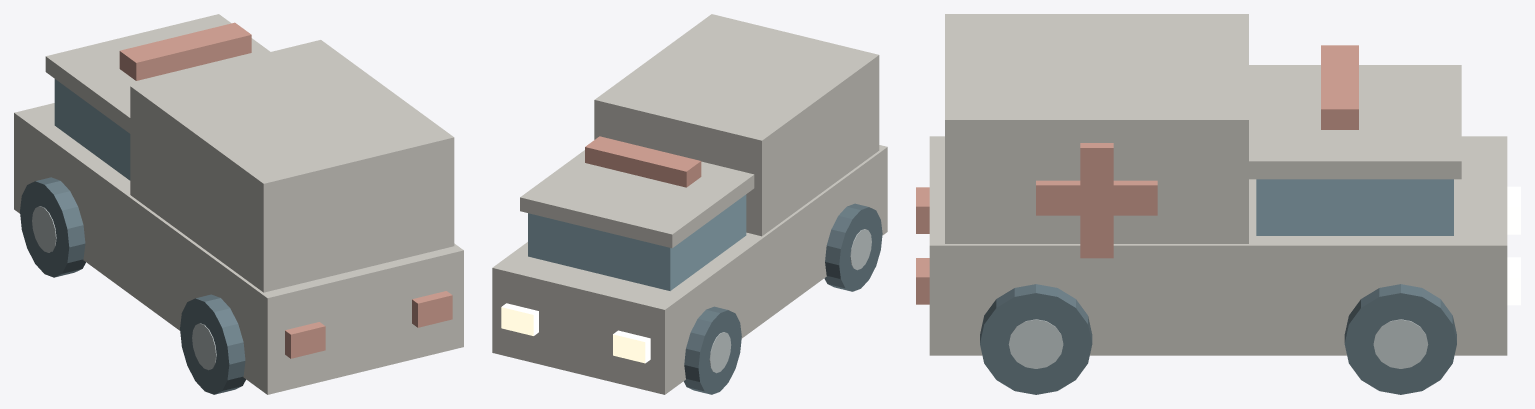
File: remaster_vehicle_4.glb
The picture shows the model from 3 angles, left to right: view 1: azimuth 30°, elevation 25°; view 2: azimuth 150°, elevation 25°; view 3: azimuth 270°, elevation 25°; orthographic projection. The views are drawn at different scales.
Parts seen in each view (by area): view 1: remaster_vehicle_4 white, remaster_vehicle_4 dark, remaster_vehicle_4 red, remaster_vehicle_4 glass, remaster_vehicle_4 metal; view 2: remaster_vehicle_4 white, remaster_vehicle_4 glass, remaster_vehicle_4 dark, remaster_vehicle_4 red, remaster_vehicle_4 warm, remaster_vehicle_4 metal; view 3: remaster_vehicle_4 white, remaster_vehicle_4 dark, remaster_vehicle_4 red, remaster_vehicle_4 glass, remaster_vehicle_4 metal, remaster_vehicle_4 warm.
Boxes of the visible parts, box(x1,y1,x2,y2) form: remaster_vehicle_4 white: box(14, 14, 463, 394); remaster_vehicle_4 dark: box(20, 177, 245, 394); remaster_vehicle_4 red: box(119, 22, 452, 358); remaster_vehicle_4 glass: box(54, 79, 130, 180); remaster_vehicle_4 metal: box(32, 206, 216, 370); remaster_vehicle_4 white: box(492, 14, 887, 394); remaster_vehicle_4 glass: box(528, 194, 746, 290); remaster_vehicle_4 dark: box(683, 203, 882, 394); remaster_vehicle_4 red: box(585, 136, 701, 187); remaster_vehicle_4 warm: box(501, 303, 650, 363); remaster_vehicle_4 metal: box(709, 229, 871, 373); remaster_vehicle_4 white: box(929, 14, 1507, 355); remaster_vehicle_4 dark: box(980, 284, 1456, 394); remaster_vehicle_4 red: box(916, 45, 1358, 304); remaster_vehicle_4 glass: box(1256, 179, 1453, 235); remaster_vehicle_4 metal: box(1008, 319, 1428, 368); remaster_vehicle_4 warm: box(1507, 186, 1520, 305).
Size of the model in its own units: 1.99 by 1.92 by 3.98.
